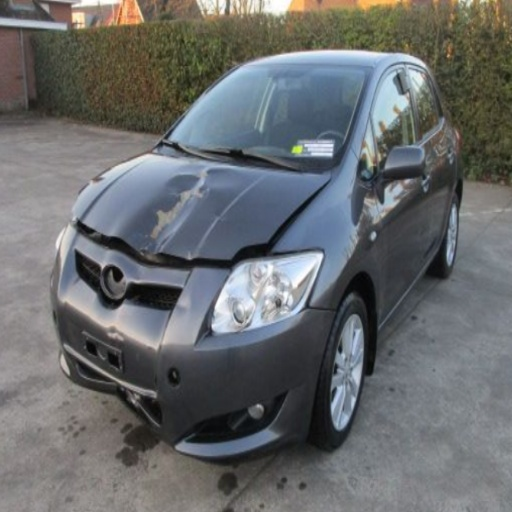dent: (139, 186, 206, 255), (202, 169, 256, 192), (167, 172, 210, 200), (171, 288, 190, 319), (107, 325, 125, 343), (209, 208, 226, 222), (184, 248, 196, 260), (135, 350, 142, 360)
rust: (149, 186, 203, 241), (193, 167, 209, 178)
scratch: (145, 166, 226, 255), (187, 180, 263, 258)
